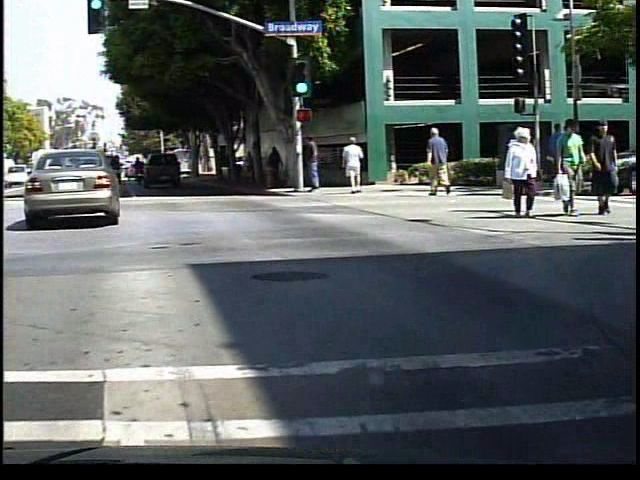person: (499, 125, 546, 218), (556, 118, 590, 218), (591, 119, 622, 218), (426, 125, 458, 197), (547, 117, 571, 191), (308, 132, 332, 200), (346, 136, 372, 197), (272, 142, 292, 191), (254, 147, 269, 190)
